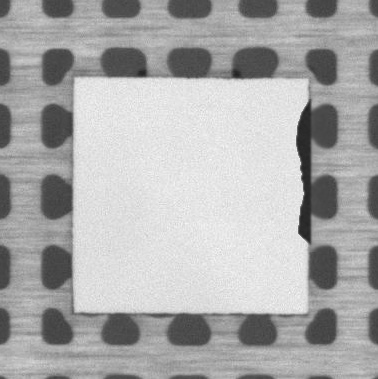DIE_BROKEN: (293, 103, 313, 248)
